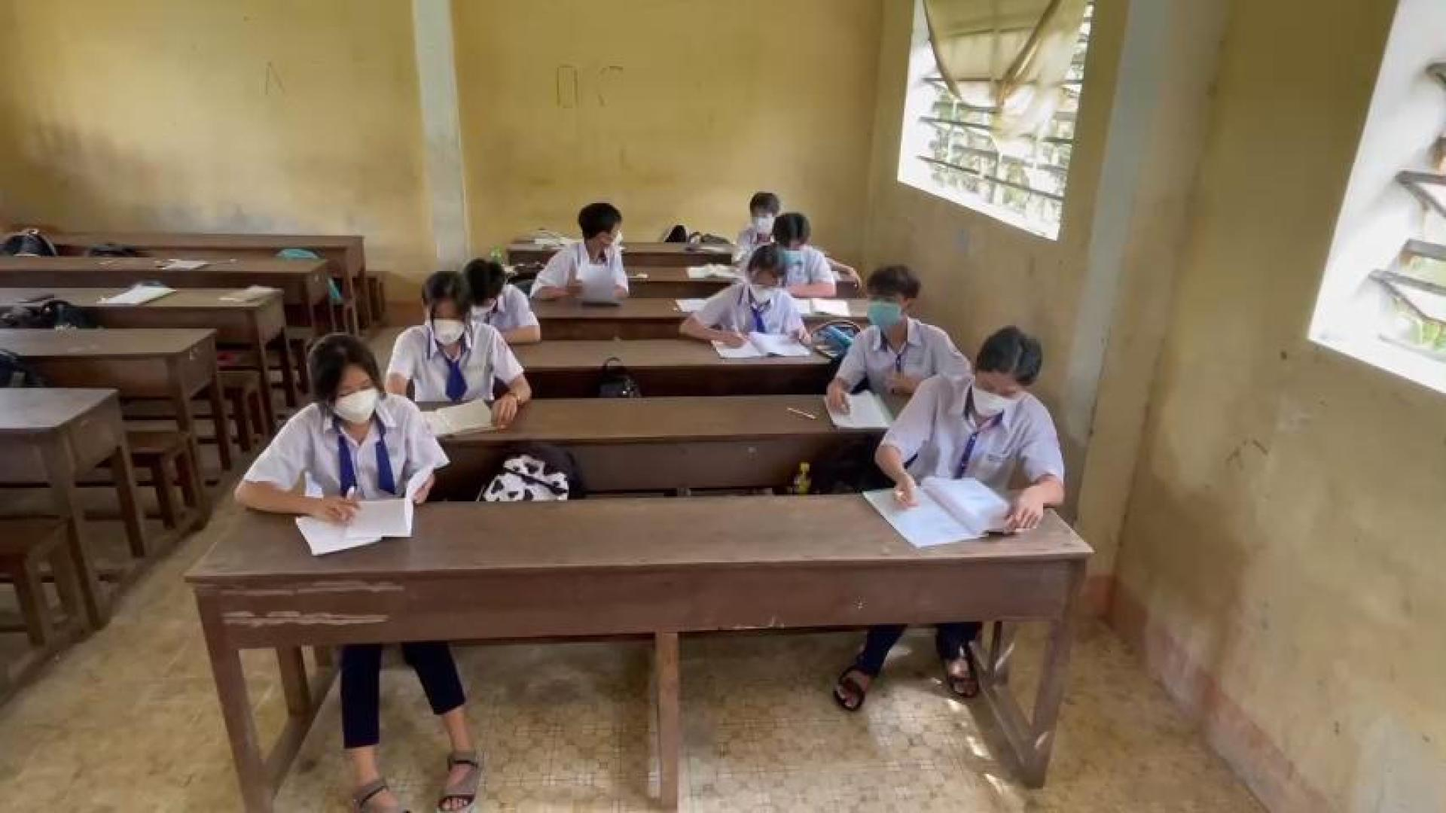Look Around: (567, 188, 640, 259)
